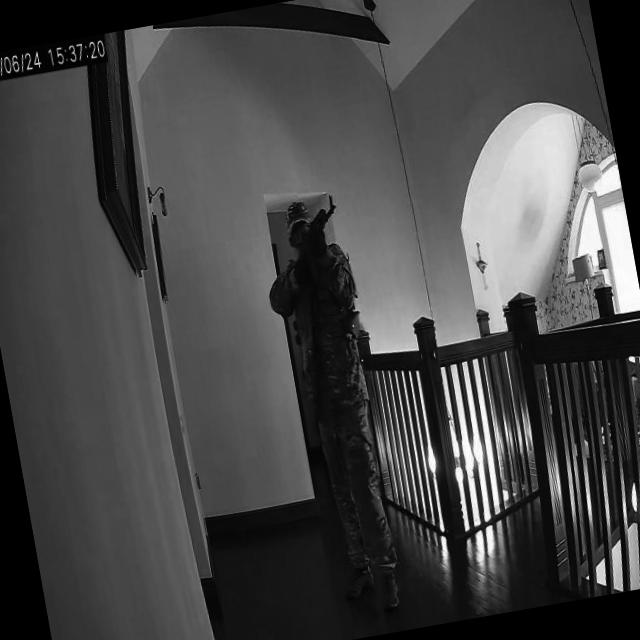gun: (280, 193, 346, 270)
person with a gun: (252, 191, 411, 624)
